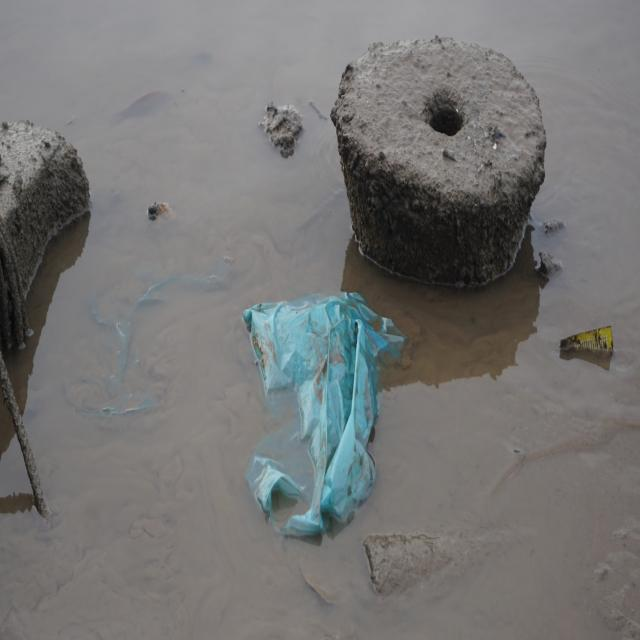Kantong Plastik: (242, 289, 407, 560)
